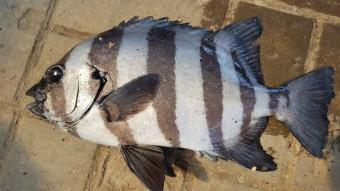fish: (27, 17, 333, 190)
